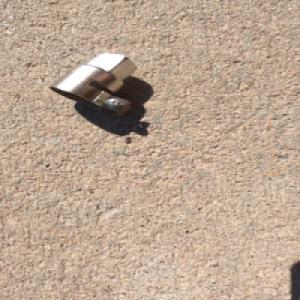MetalPart: (48, 51, 140, 117)
